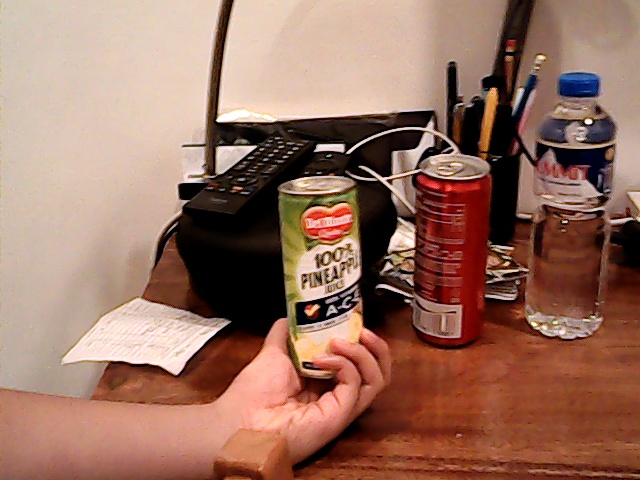Cola: (406, 142, 503, 357)
Pine Juice: (272, 169, 374, 363)
Summit Water: (521, 81, 609, 342)
